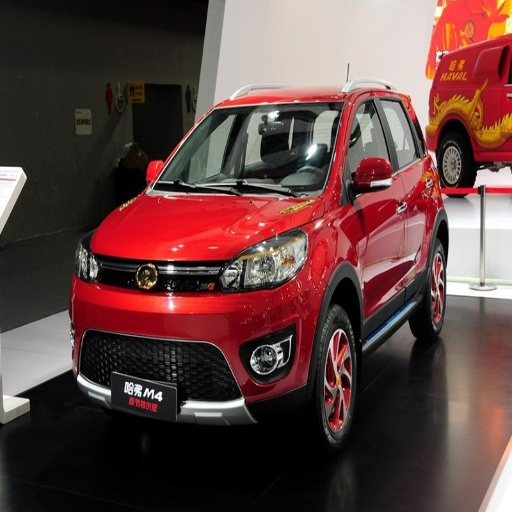front_bumper: (73, 253, 325, 424)
front_glass: (154, 104, 341, 192)
front_left_door: (342, 91, 404, 322)
